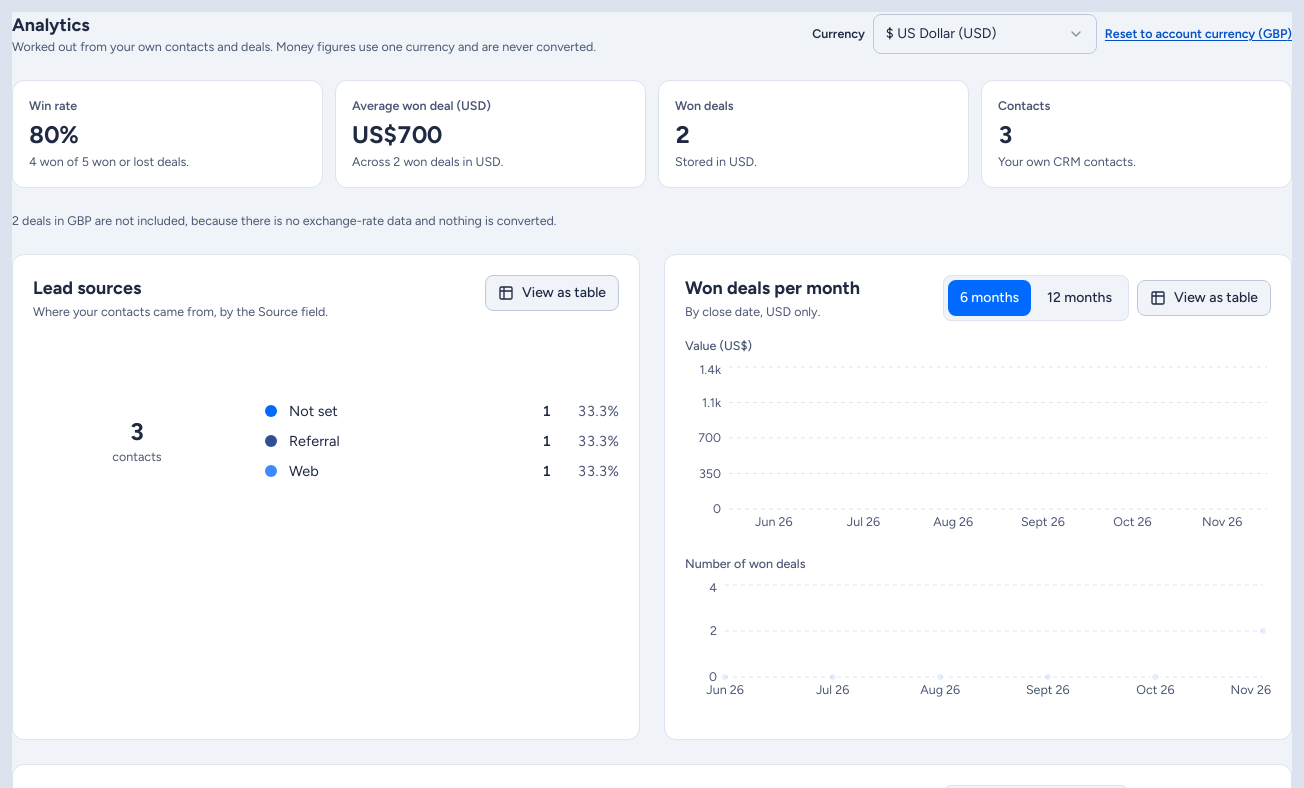
Scenario: Analytics › a hand-picked currency is remembered and can be reset to the account currency
Check: the text "US$700" is shown, box x1=352 y1=120 x2=442 y2=149
Check: the text "2 deals in GBP are not included" is shown, box x1=12 y1=213 x2=556 y2=228
Click the button "Reset to account currency (GBP)" at (1198, 34), box x1=1105 y1=25 x2=1292 y2=43
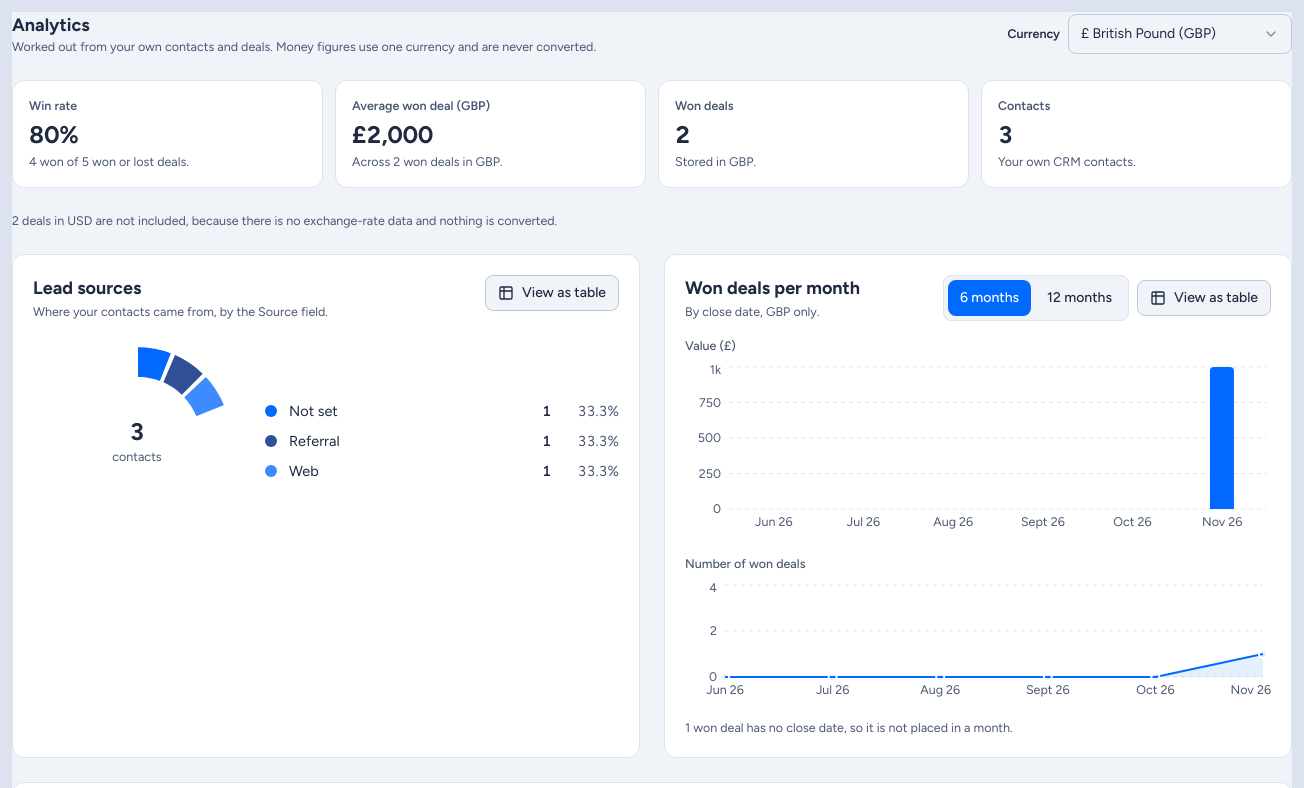
Check: the text "£2,000" is shown, box x1=352 y1=120 x2=433 y2=149
